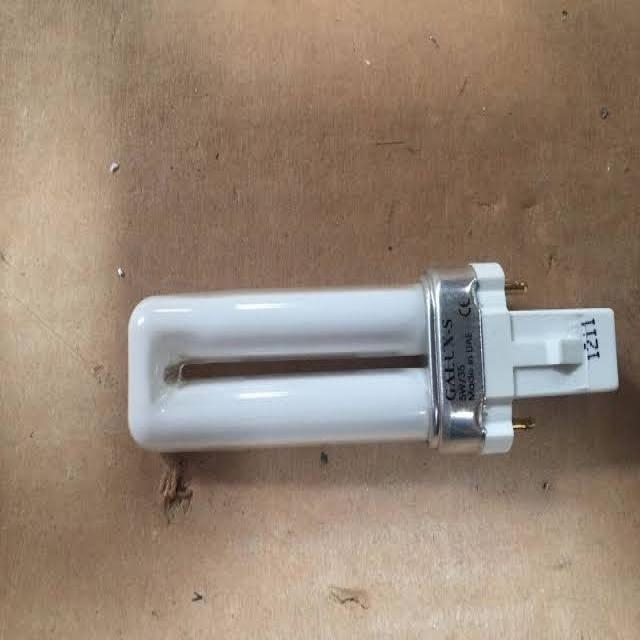bulb: (110, 230, 640, 548)
